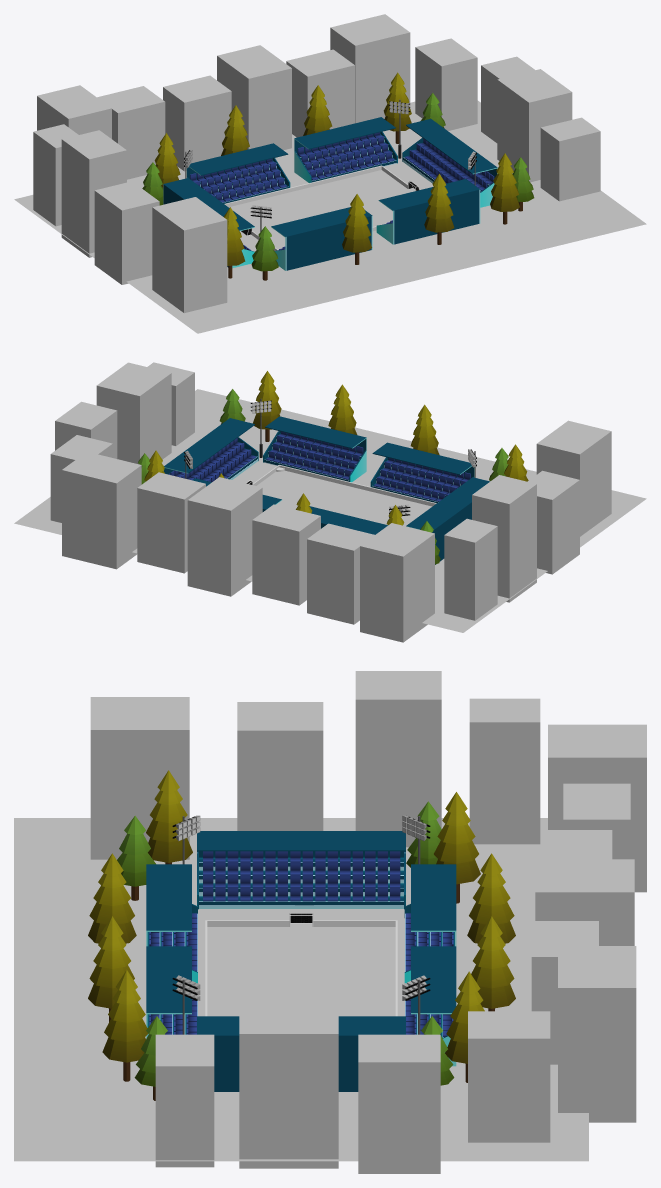
File: Football Stadium.fbx
3 views of the same model, one above another, from view 1: azimuth 30°, elevation 25°; view 2: azimuth 150°, elevation 25°; view 3: azimuth 270°, elevation 25° (orthographic). The views are drawn at different scales.
Visible parts, largest first — view 1: Football field, apartman.011, apartman.007, apartman.005, apartman.003, apartman.012, apartman.013, apartman.008, chair.002, apartman.001, apartman.004, chair.001 (+21 smaller); view 2: Football field, apartman.005, apartman.010, apartman.007, apartman.003, apartman.013, apartman.008, apartman.011, apartman.009, apartman, apartman.006, chair.003 (+14 smaller); view 3: Football field, apartman.003, chair, apartman.005, apartman.013, apartman.011, apartman.002, apartman.012, apartman.001, apartman, apartman.010, apartman.004 (+21 smaller).
Part boxes in pixels (<box>): Football field: <box>14,100,646,333</box>; apartman.011: <box>152,197,227,313</box>; apartman.007: <box>217,45,291,150</box>; apartman.005: <box>330,14,410,123</box>; apartman.003: <box>497,69,572,182</box>; apartman.012: <box>94,181,159,284</box>; apartman.013: <box>61,130,126,257</box>; apartman.008: <box>163,75,231,171</box>; chair.002: <box>294,117,397,182</box>; apartman.001: <box>415,38,477,130</box>; apartman.004: <box>540,117,600,201</box>; chair.001: <box>186,143,290,203</box>; Football field: <box>14,389,646,632</box>; apartman.005: <box>62,452,141,569</box>; apartman.010: <box>360,523,434,642</box>; apartman.007: <box>187,477,262,596</box>; apartman.003: <box>96,362,171,464</box>; apartman.013: <box>472,475,536,602</box>; apartman.008: <box>252,504,320,605</box>; apartman.011: <box>536,420,611,536</box>; apartman.009: <box>307,523,374,624</box>; apartman: <box>444,518,497,620</box>; apartman.006: <box>137,472,205,573</box>; chair.003: <box>263,416,366,482</box>; Football field: <box>14,818,588,1161</box>; apartman.003: <box>239,1001,338,1168</box>; chair: <box>197,831,405,909</box>; apartman.005: <box>558,946,636,1122</box>; apartman.013: <box>355,671,441,847</box>; apartman.011: <box>90,697,189,859</box>; apartman.002: <box>358,1034,440,1173</box>; apartman.012: <box>237,702,323,830</box>; apartman.001: <box>468,1011,550,1142</box>; apartman: <box>469,698,540,844</box>; apartman.010: <box>548,724,646,892</box>; apartman.004: <box>155,1034,214,1167</box>.
Size of the model in its own units: 16938 by 3533 by 12898.
